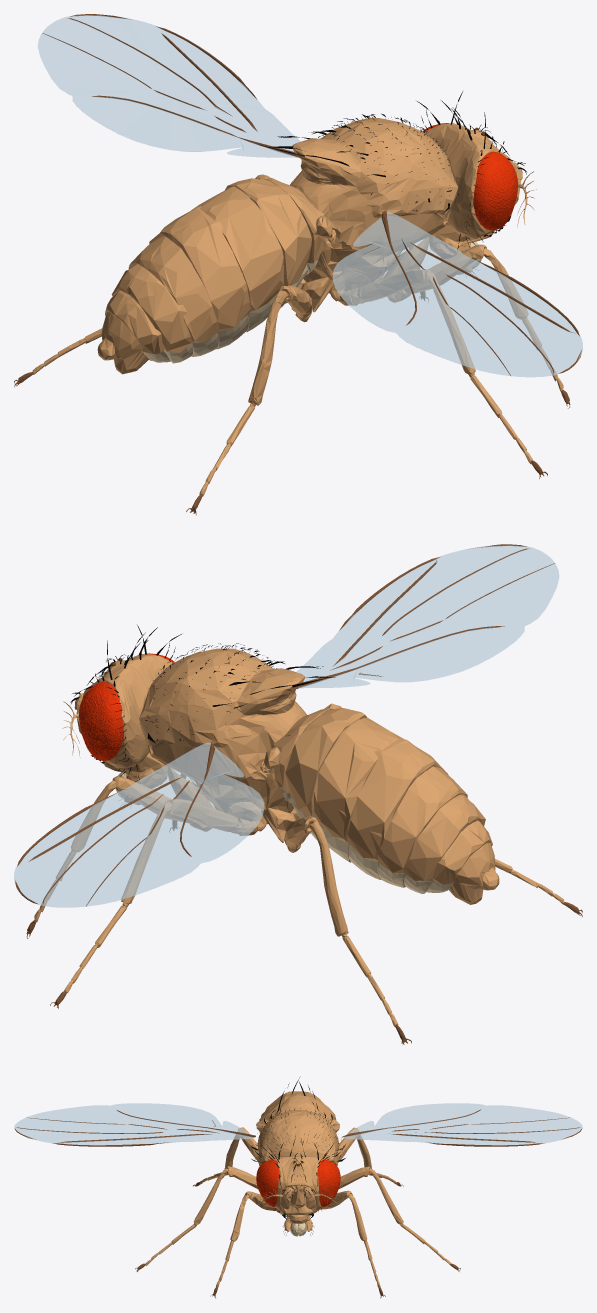
Rendered from flybody.glb.
3 renders of one model, top to bottom at view 1: azimuth 30°, elevation 25°; view 2: azimuth 150°, elevation 25°; view 3: azimuth 270°, elevation 25°, orthographic. The views are drawn at different scales.
Visible parts, largest first — view 1: body__body, wing_right__membrane, wing_left__membrane, body__red, body__lower, wing_left__brown, wing_right__brown, body__black; view 2: body__body, wing_left__membrane, wing_right__membrane, body__red, body__lower, wing_right__brown, wing_left__brown, body__black; view 3: body__body, wing_right__membrane, wing_left__membrane, body__red, wing_right__brown, wing_left__brown, body__black.
Part boxes in pixels (x1,y1,x2,y2): body__body: (32,118,563,496); wing_right__membrane: (332,212,582,377); wing_left__membrane: (37,15,300,157); body__red: (422,123,517,230); body__lower: (142,242,481,363); wing_left__brown: (42,14,298,157); wing_right__brown: (363,210,582,375); body__black: (259,91,526,273); body__body: (34,648,564,1027); wing_left__membrane: (14,742,264,907); wing_right__membrane: (296,545,559,688); body__red: (79,653,174,760); body__lower: (115,772,453,893); wing_right__brown: (297,544,554,688); wing_left__brown: (15,742,214,906); body__black: (70,625,335,793); body__body: (146,1091,450,1287); wing_right__membrane: (14,1103,254,1145); wing_left__membrane: (342,1103,582,1145); body__red: (256,1159,340,1206); wing_right__brown: (14,1110,255,1146); wing_left__brown: (341,1109,582,1146); body__black: (251,1076,345,1220).
Bounding box in the file's own units: 0.4927 × 0.3015 × 0.9989.
